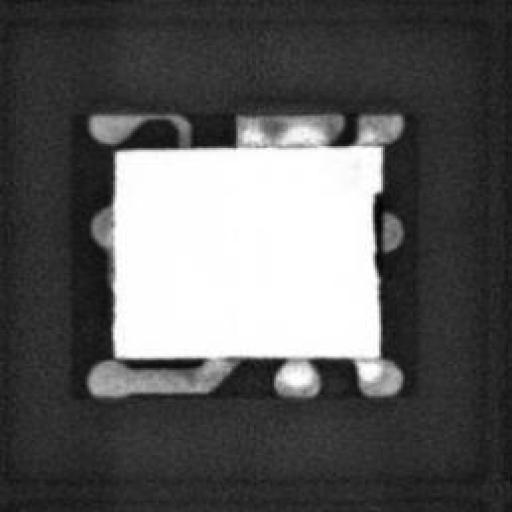DIE_BROKEN: (365, 184, 387, 279)
